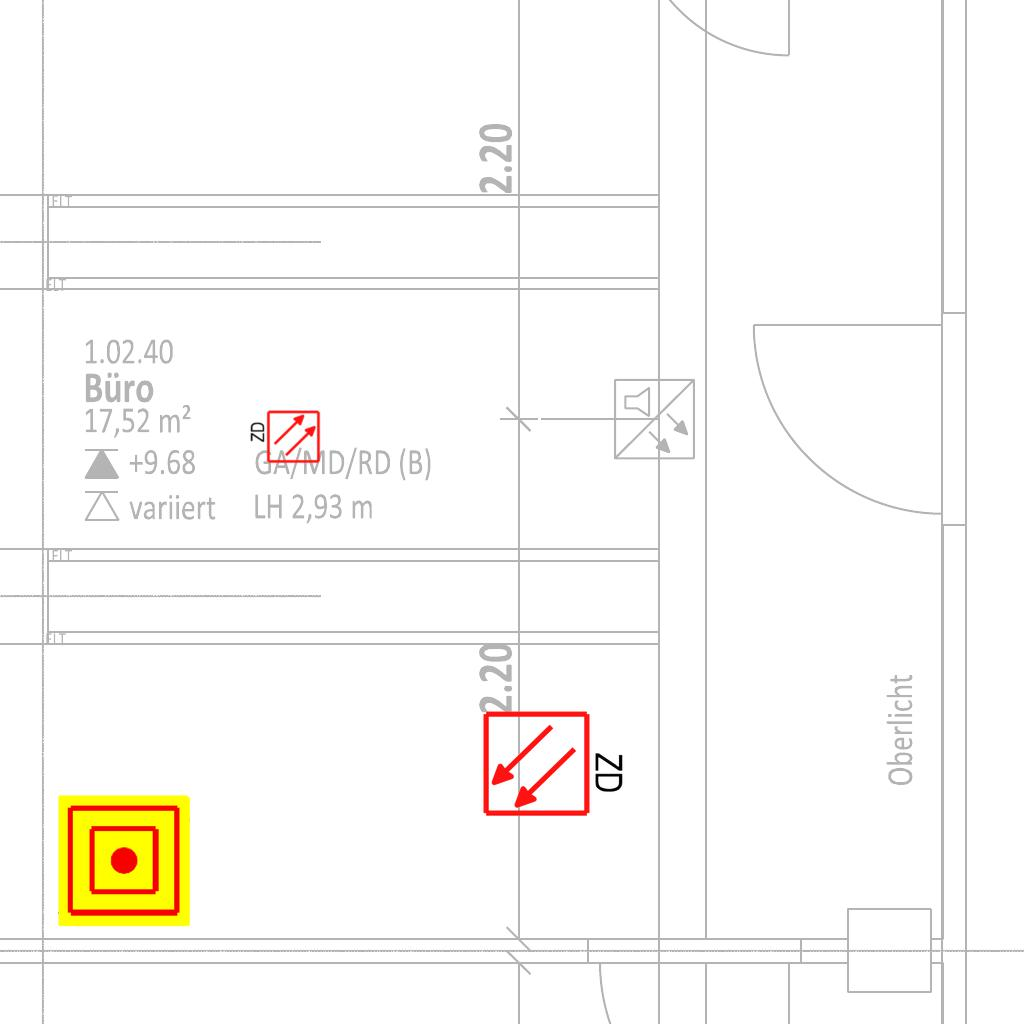NAM-Nichtautomatischer_Melder: (58, 795, 190, 927)
ZD_Melder_in_Zwischendecke_mit_Revisionsoeffnung_mind_40_x_40_cm: (481, 705, 630, 819), (247, 409, 321, 466)
